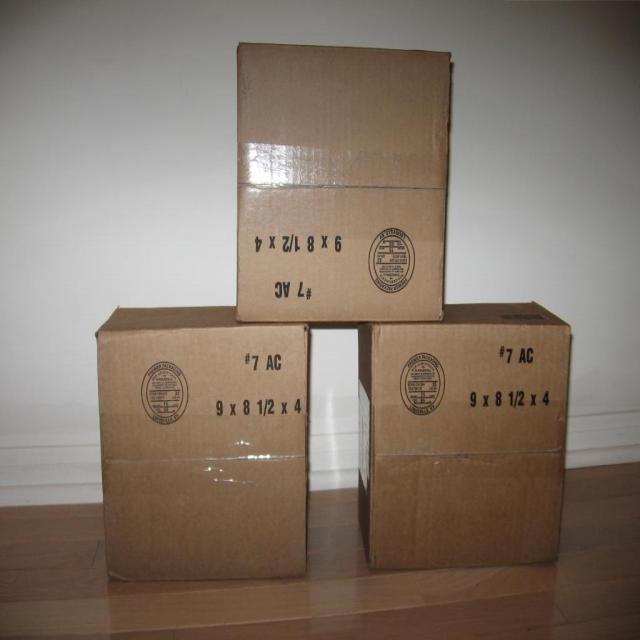Box: (235, 33, 451, 318), (90, 303, 306, 579), (366, 296, 571, 566)
